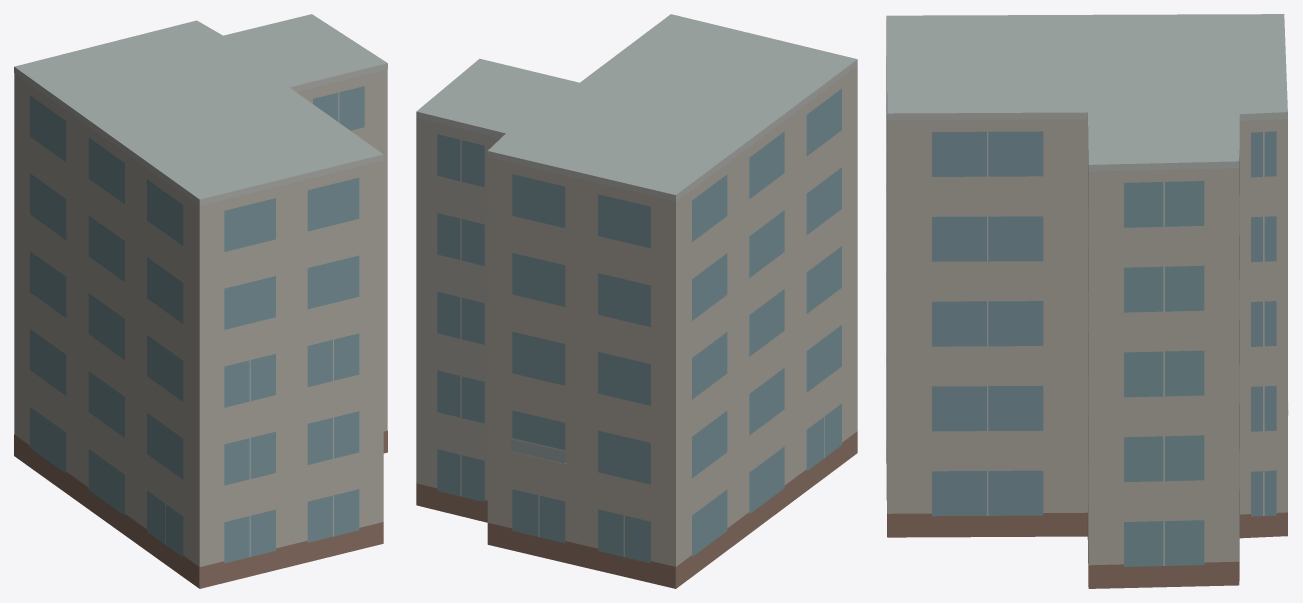
File: survey-upis-32876265.glb
3 views of the same model, side by side, from view 1: azimuth 30°, elevation 25°; view 2: azimuth 150°, elevation 25°; view 3: azimuth 270°, elevation 25° (orthographic). The views are drawn at different scales.
Parts seen in each view (by area): view 1: survey-upis-32876265.tmp; view 2: survey-upis-32876265.tmp; view 3: survey-upis-32876265.tmp.
Boxes of the visible parts, x1,y1,x2,y2 form: survey-upis-32876265.tmp: (14, 14, 387, 588); survey-upis-32876265.tmp: (416, 14, 857, 588); survey-upis-32876265.tmp: (886, 14, 1288, 588).
Bounding box in the file's own units: 11.65 × 15.25 × 13.12.
